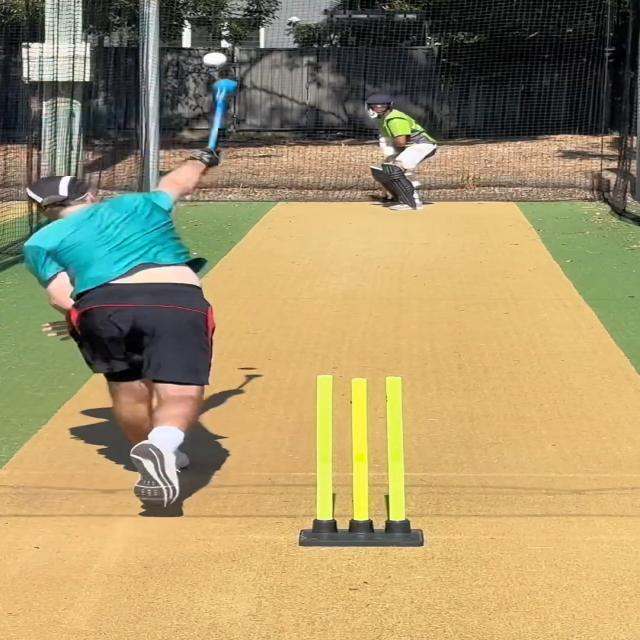ball: (199, 50, 231, 69)
stump: (298, 374, 426, 547)
